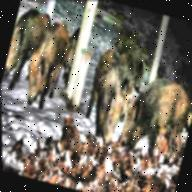boar: (112, 64, 192, 167), (70, 38, 138, 153), (21, 16, 67, 107), (9, 0, 56, 81)
